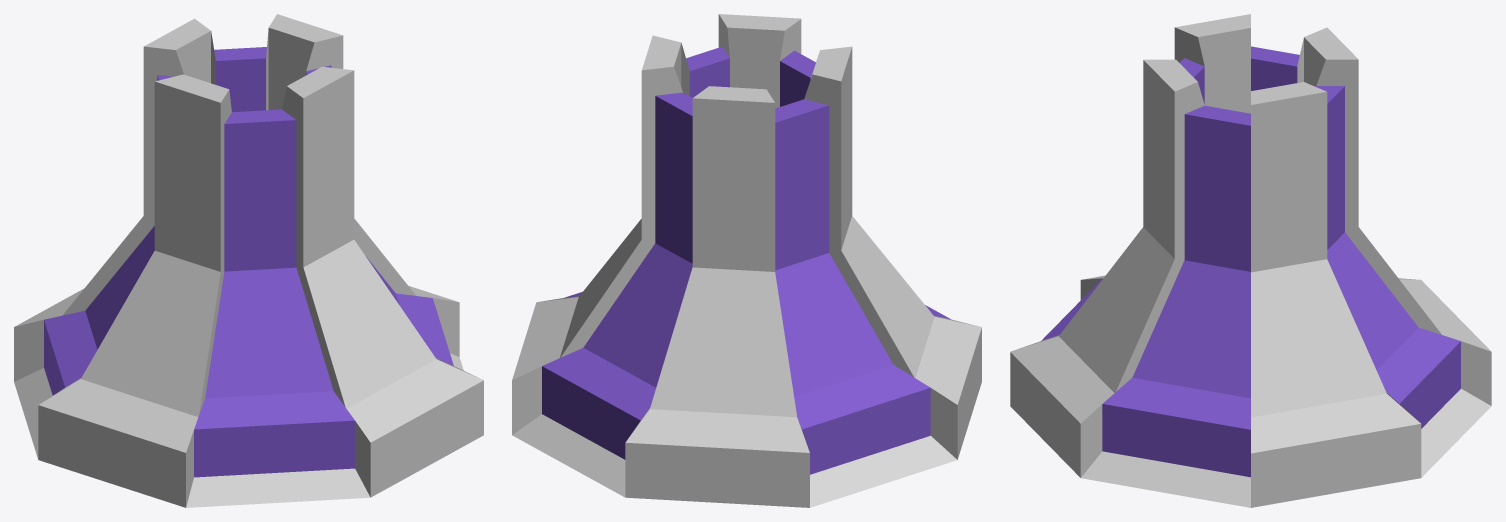
Rendered from mortar.fbx.
3 renders of one model, left to right at view 1: azimuth 30°, elevation 25°; view 2: azimuth 150°, elevation 25°; view 3: azimuth 270°, elevation 25°, orthographic.
Parts seen in each view (by area): view 1: Circle; view 2: Circle; view 3: Circle.
Boxes of the visible parts, x1=… form: Circle: x1=14, y1=14, x2=483, y2=507; Circle: x1=512, y1=14, x2=981, y2=507; Circle: x1=1010, y1=14, x2=1491, y2=507.
Size of the model in its own units: 2 by 1.59 by 2.
